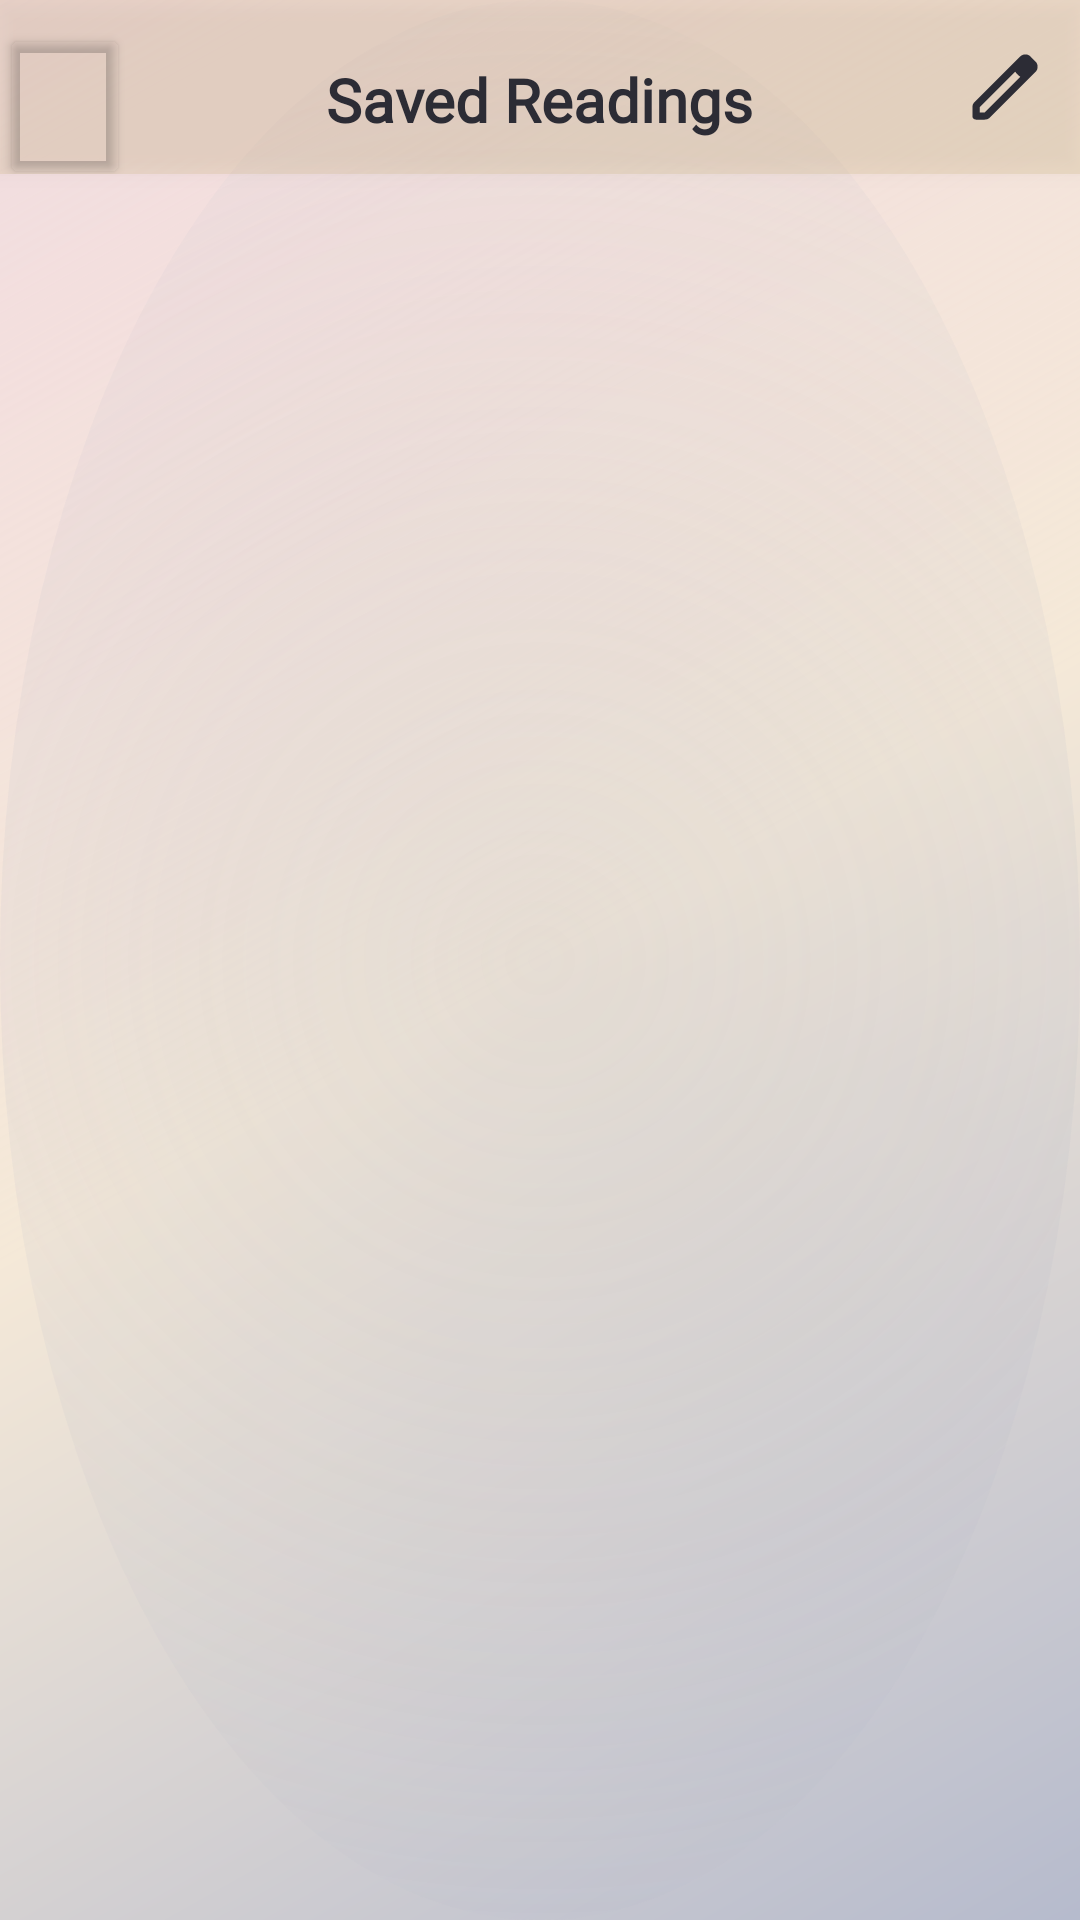

Point at icon controls on the screen. Image size 1080×1920, points as [x,y].
edit: [1005,87]
